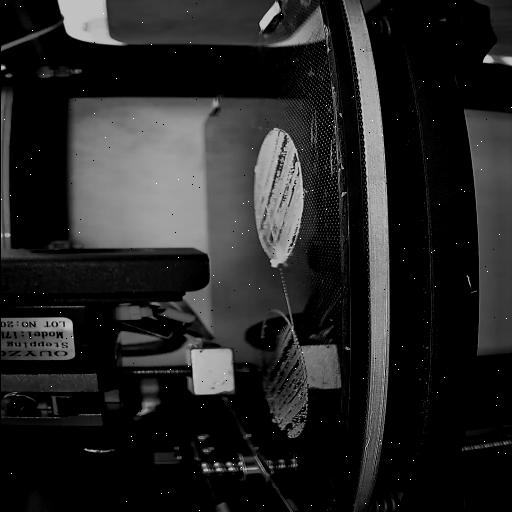under_extrusion: (261, 130, 299, 253), (266, 327, 304, 435)
